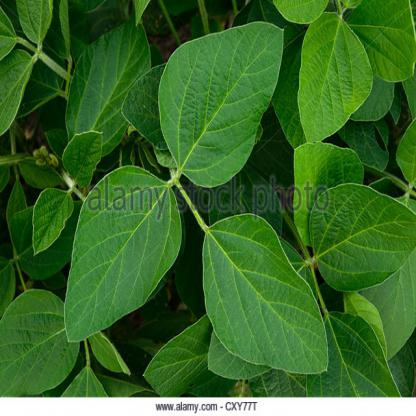Soybean leaf: (153, 22, 283, 190), (62, 163, 181, 345), (200, 212, 329, 375)
